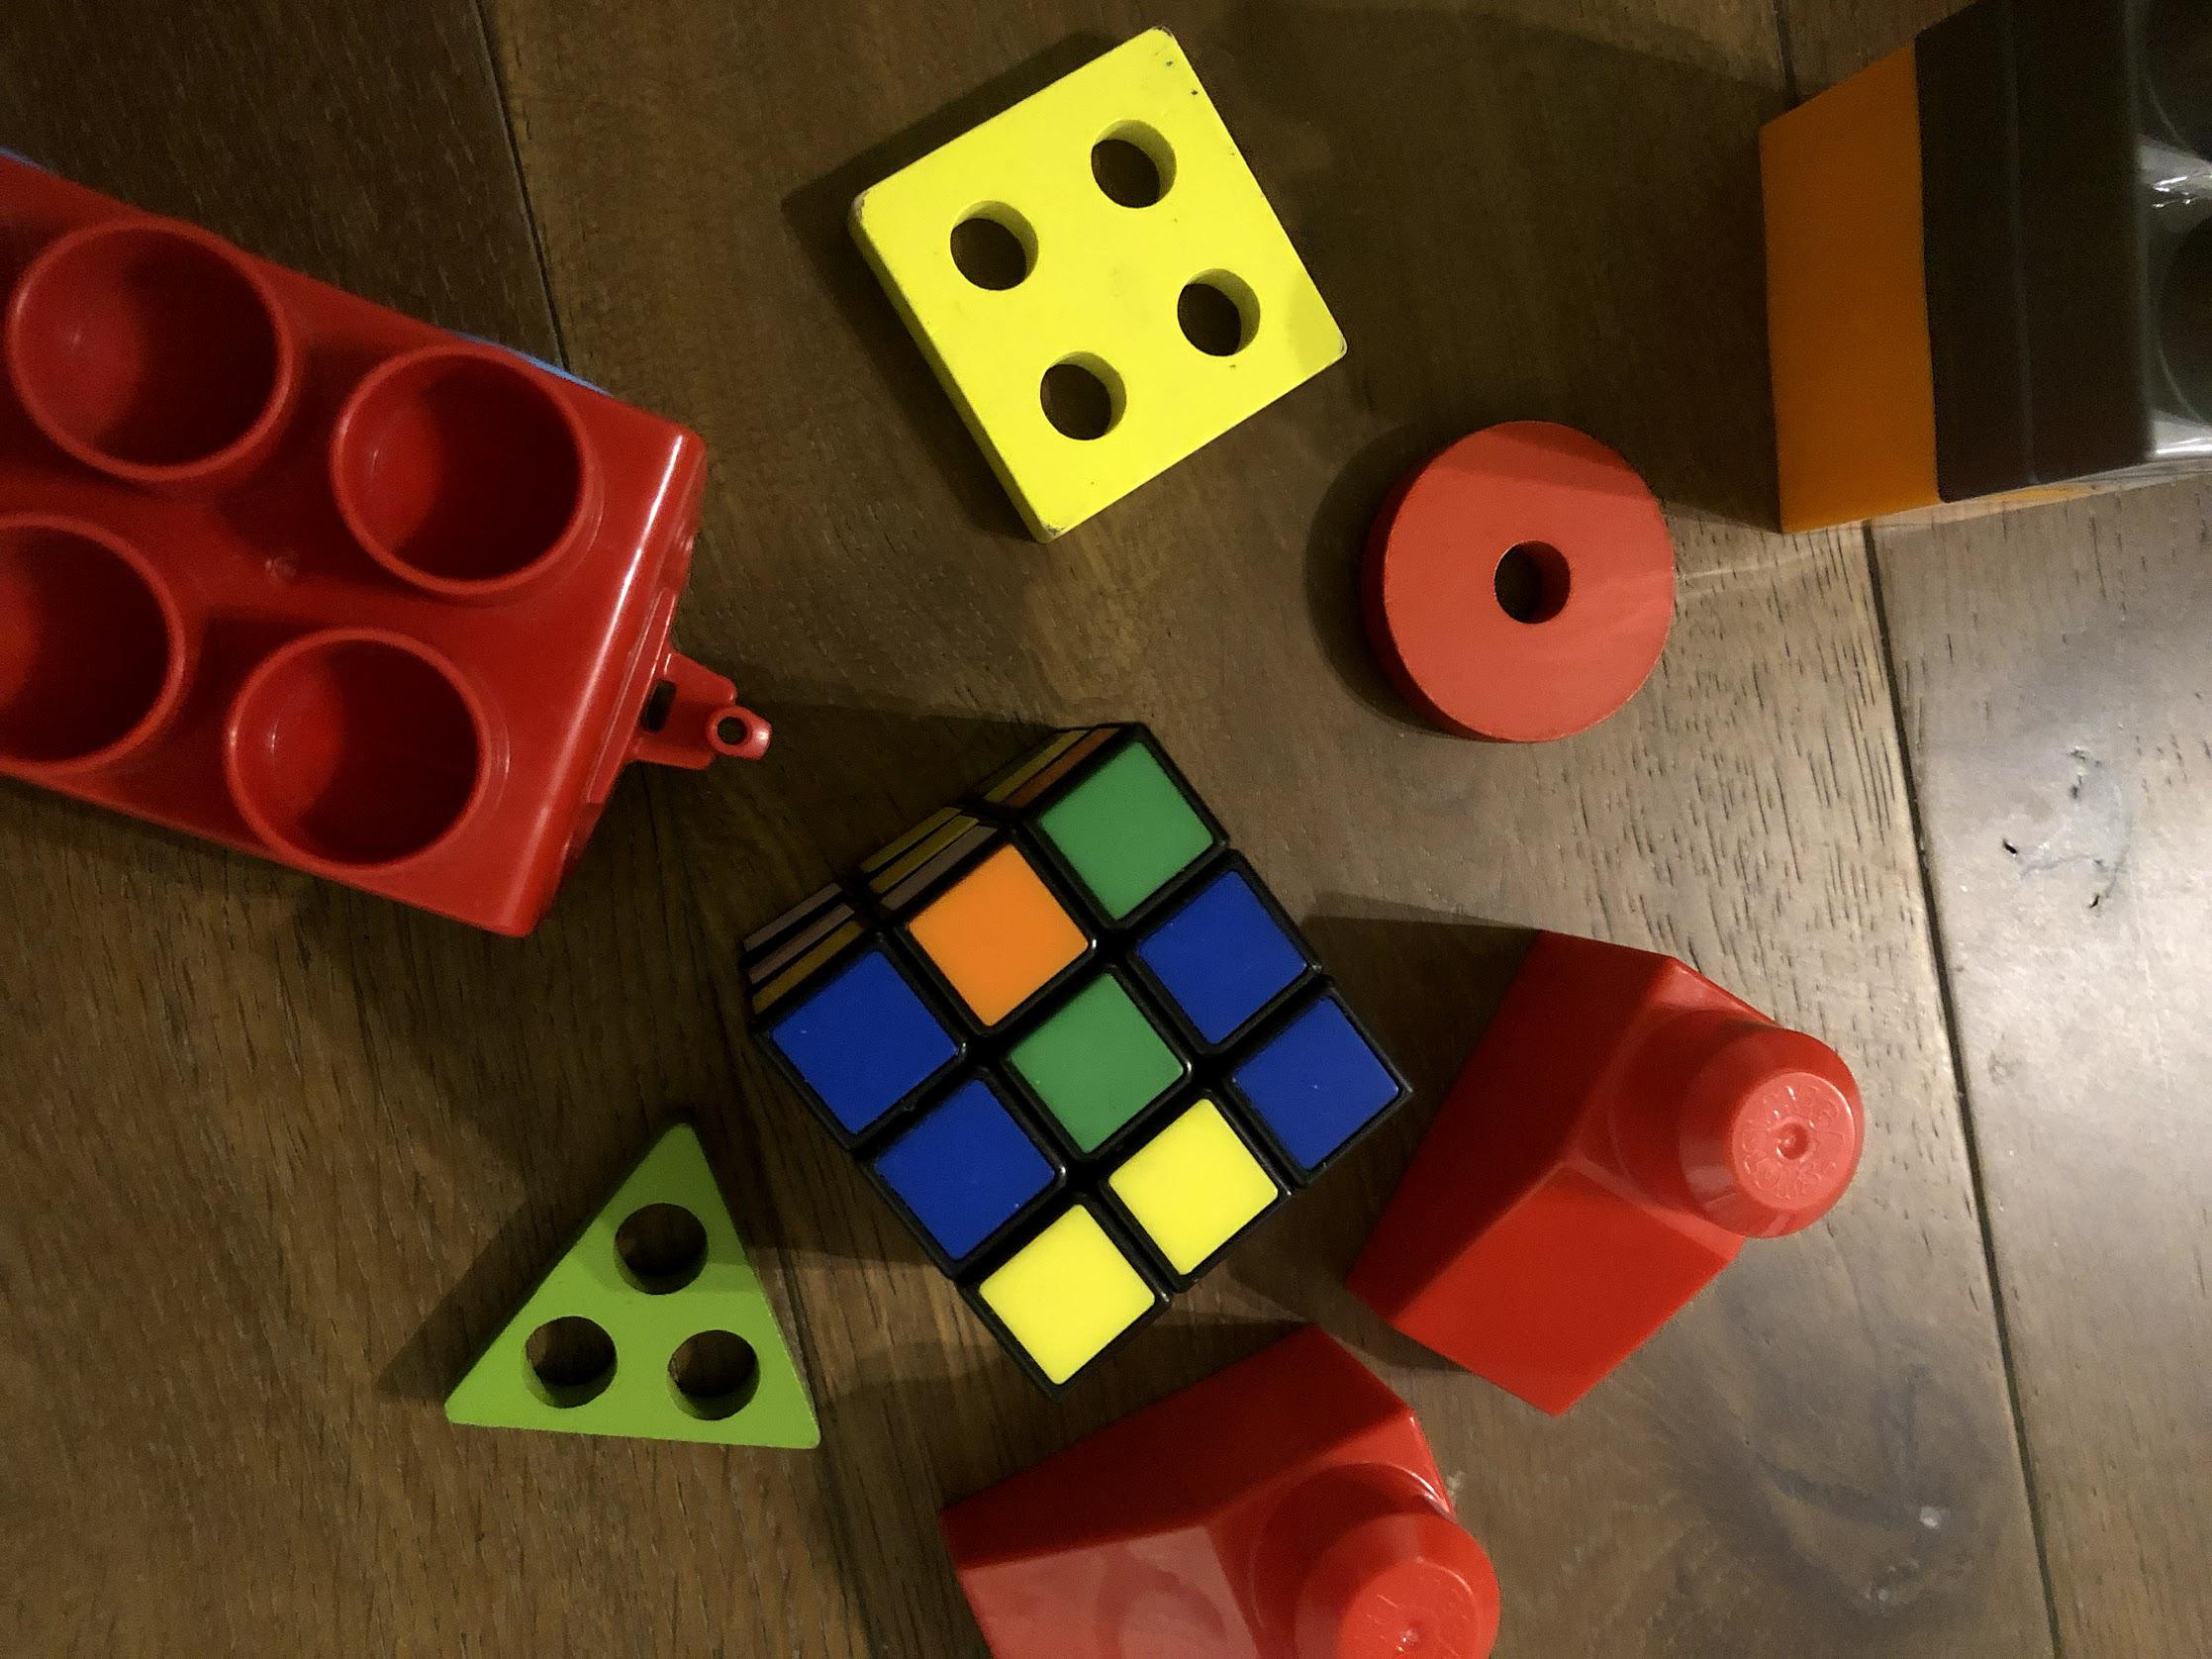Circle: (1379, 413, 1689, 744)
Square: (848, 26, 1348, 542)
Triangle: (435, 1117, 826, 1460)
